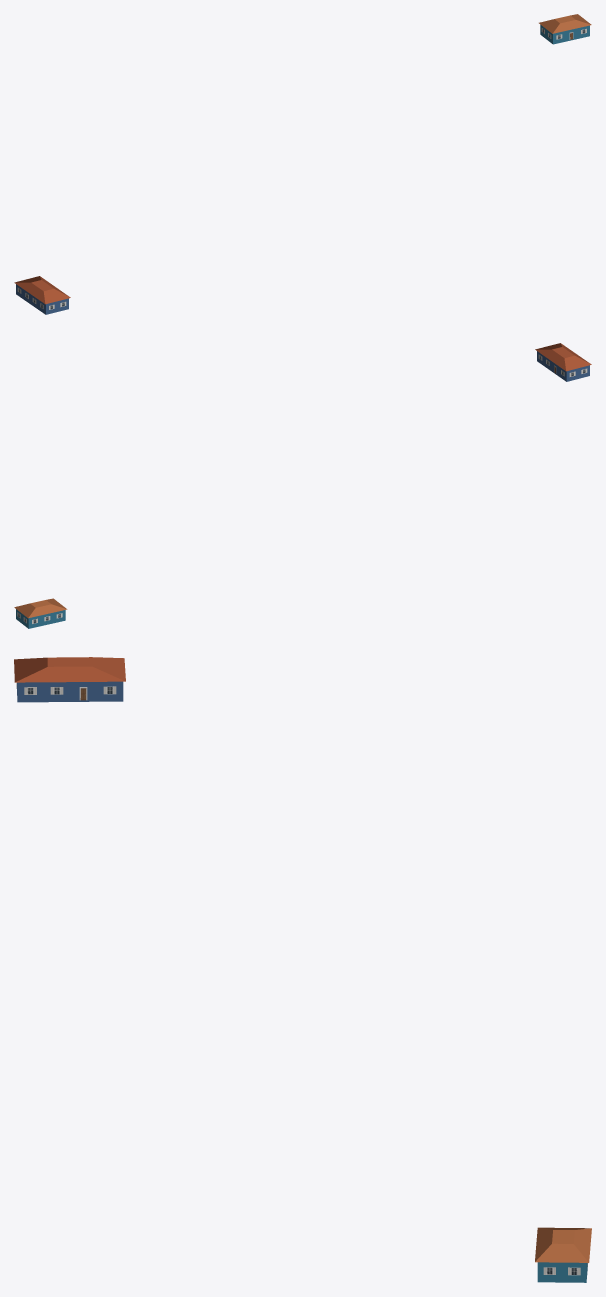
Rendered from msb_sannicolas_23_25.glb.
3 views of the same model, one above another, from view 1: azimuth 30°, elevation 25°; view 2: azimuth 210°, elevation 25°; view 3: azimuth 270°, elevation 25° (orthographic). The views are drawn at different scales.
Parts seen in each view (by area): view 1: msb_sannicolas_23_25_lod0; view 2: msb_sannicolas_23_25_lod0; view 3: msb_sannicolas_23_25_lod0.
Part boxes in pixels (bbox=[...]): msb_sannicolas_23_25_lod0: bbox=[14, 14, 591, 314]; msb_sannicolas_23_25_lod0: bbox=[14, 343, 591, 628]; msb_sannicolas_23_25_lod0: bbox=[14, 657, 591, 1282].
Size of what is drawn, in the model's own units: 221 by 7.18 by 87.33.
2 materials, 1 textured.
